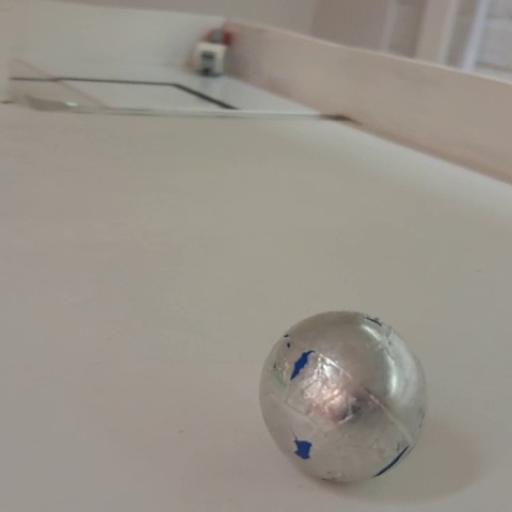alive: (256, 308, 426, 484)
